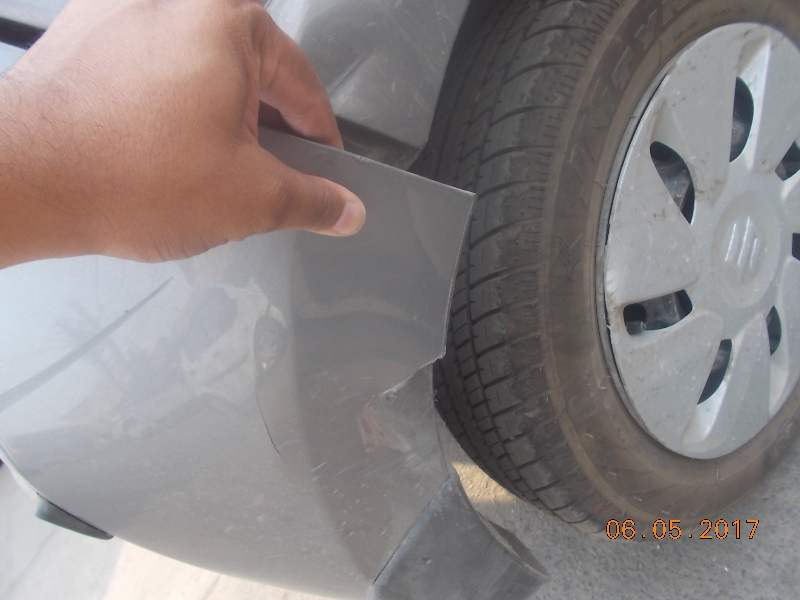Scratch_or_spot: (373, 495, 403, 547), (400, 461, 422, 488)
